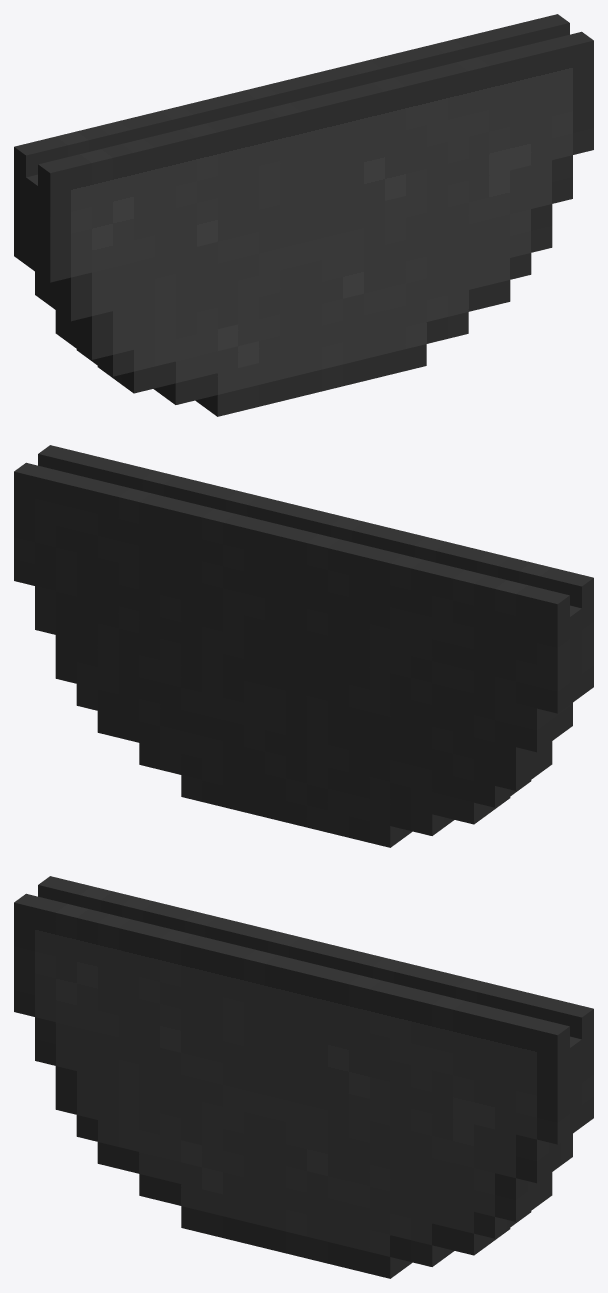
Rendered from stonedoor2.fbx.
3 views of the same model, one above another, from view 1: azimuth 30°, elevation 25°; view 2: azimuth 150°, elevation 25°; view 3: azimuth 330°, elevation 25° (orthographic).
Parts seen in each view (by area): view 1: stonedoor2; view 2: stonedoor2; view 3: stonedoor2.
Part boxes in pixels (x1,y1,x2,y2): stonedoor2: (14,14,593,416); stonedoor2: (14,445,593,847); stonedoor2: (14,876,593,1278).
Bounding box in the file's own units: 26 × 13 × 3.
1 material, 1 textured.
